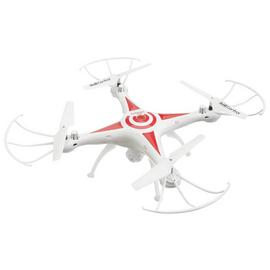drone: (3, 55, 267, 214)
